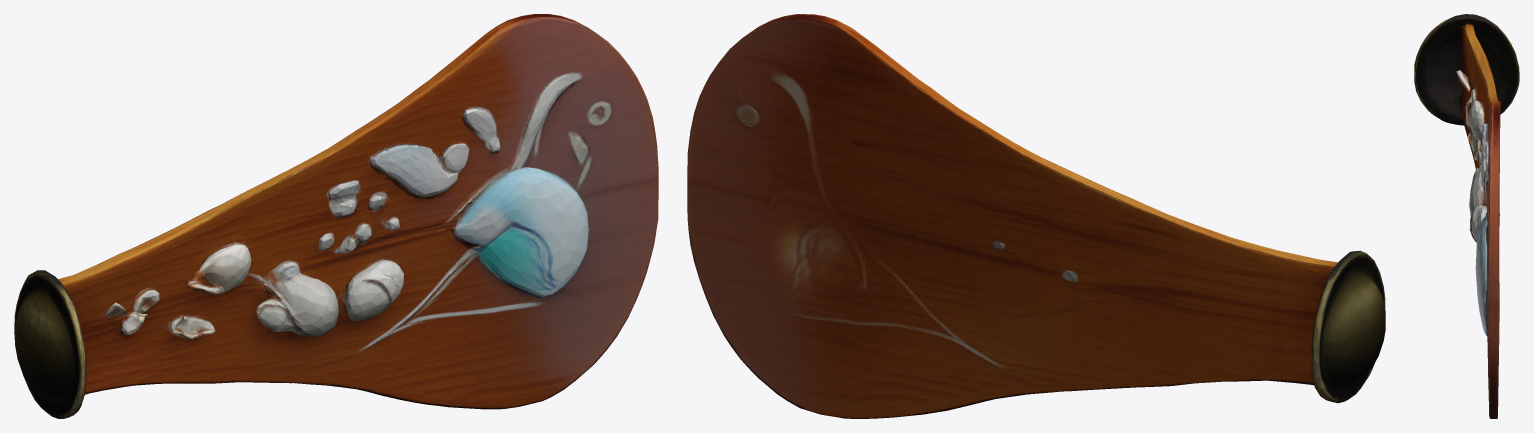
Rendered from shell-inlaid-violin-bow-organic hi-res.jpeg.glb.
3 renders of one model, left to right at view 1: azimuth 30°, elevation 25°; view 2: azimuth 150°, elevation 25°; view 3: azimuth 270°, elevation 25°, orthographic. The views are drawn at different scales.
Visible parts, largest first — view 1: world; view 2: world; view 3: world.
Boxes of the visible parts, x1,y1,x2,y2 form: world: (14, 14, 658, 418); world: (687, 14, 1385, 418); world: (1414, 14, 1519, 418).
Bounding box in the file's own units: 1 × 0.5698 × 0.1796.
1 material, 1 textured.
